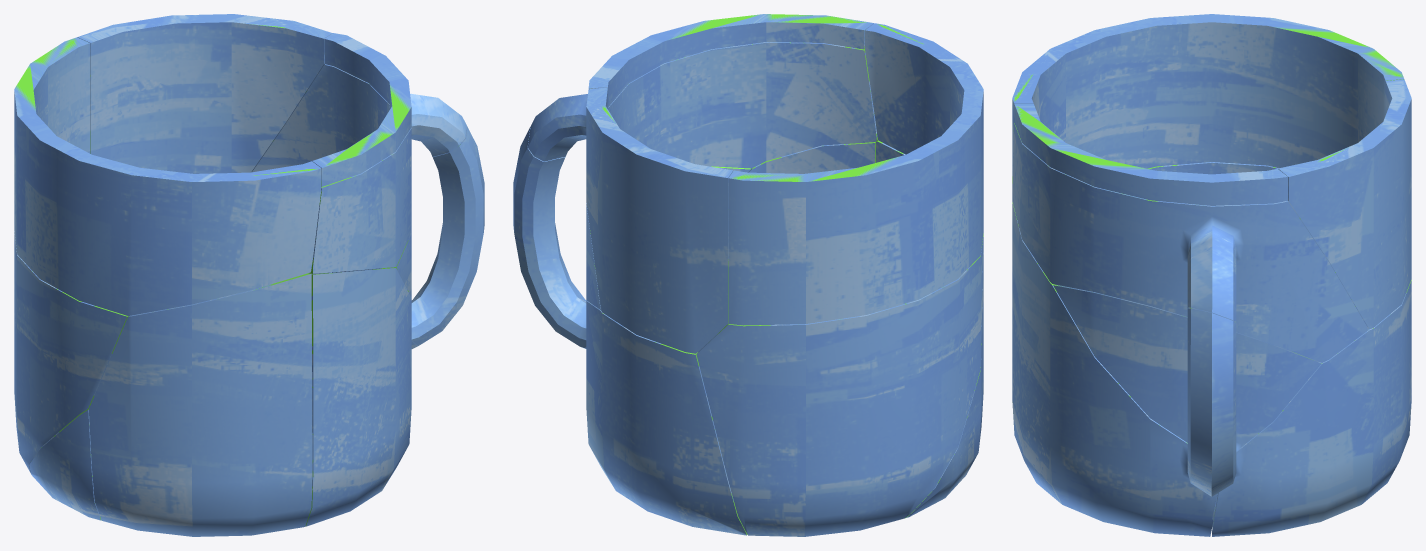
File: BlueMug.obj
The picture shows the model from 3 angles, left to right: view 1: azimuth 30°, elevation 25°; view 2: azimuth 150°, elevation 25°; view 3: azimuth 270°, elevation 25°; orthographic projection.
Parts seen in each view (by area): view 1: BlueMug_cell.003, BlueMug_cell.001, BlueMug_cell, BlueMug_cell.009, BlueMug_cell.007, BlueMug_cell.004, BlueMug_cell.002, BlueMug_cell.005, BlueMug_cell.008; view 2: BlueMug_cell.004, BlueMug_cell.001, BlueMug_cell.007, BlueMug_cell, BlueMug_cell.006, BlueMug_cell.005, BlueMug_cell.002, BlueMug_cell.009, BlueMug_cell.008, BlueMug_cell.003; view 3: BlueMug_cell.001, BlueMug_cell.007, BlueMug_cell.009, BlueMug_cell.006, BlueMug_cell.002, BlueMug_cell, BlueMug_cell.005, BlueMug_cell.004.
Part boxes in pixels (<box>): BlueMug_cell.003: <box>89,273,312,536</box>; BlueMug_cell.001: <box>14,37,321,315</box>; BlueMug_cell: <box>77,14,332,173</box>; BlueMug_cell.009: <box>305,268,417,526</box>; BlueMug_cell.007: <box>252,64,467,273</box>; BlueMug_cell.004: <box>14,231,129,471</box>; BlueMug_cell.002: <box>332,127,484,346</box>; BlueMug_cell.005: <box>312,33,411,186</box>; BlueMug_cell.008: <box>29,409,101,520</box>; BlueMug_cell.004: <box>696,234,983,536</box>; BlueMug_cell.001: <box>728,23,983,325</box>; BlueMug_cell.007: <box>527,42,877,309</box>; BlueMug_cell: <box>586,87,733,353</box>; BlueMug_cell.006: <box>585,300,747,535</box>; BlueMug_cell.005: <box>588,14,873,109</box>; BlueMug_cell.002: <box>513,127,750,348</box>; BlueMug_cell.009: <box>748,141,876,173</box>; BlueMug_cell.008: <box>905,359,981,518</box>; BlueMug_cell.003: <box>875,140,983,444</box>; BlueMug_cell.001: <box>1012,14,1403,183</box>; BlueMug_cell.007: <box>1012,123,1368,362</box>; BlueMug_cell.009: <box>1012,202,1217,536</box>; BlueMug_cell.006: <box>1212,280,1411,536</box>; BlueMug_cell.002: <box>1053,285,1321,496</box>; BlueMug_cell: <box>1278,79,1411,329</box>; BlueMug_cell.005: <box>1014,103,1287,205</box>; BlueMug_cell.004: <box>1147,162,1278,174</box>.
Bounding box in the file's own units: 1.33 × 1.03 × 1.04.
